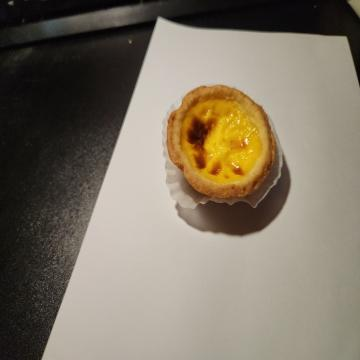EggTart: (166, 83, 276, 202)
